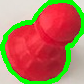Red Pawn: (5, 2, 81, 82)
